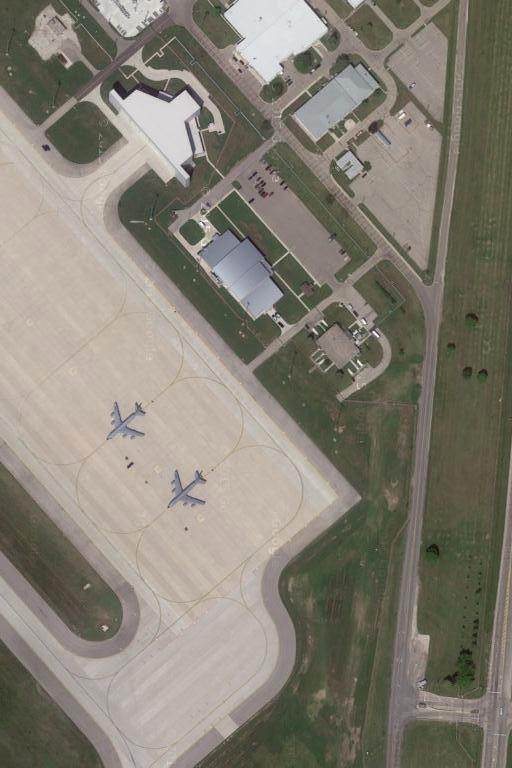KC-135: (163, 465, 209, 512), (104, 398, 150, 444)
